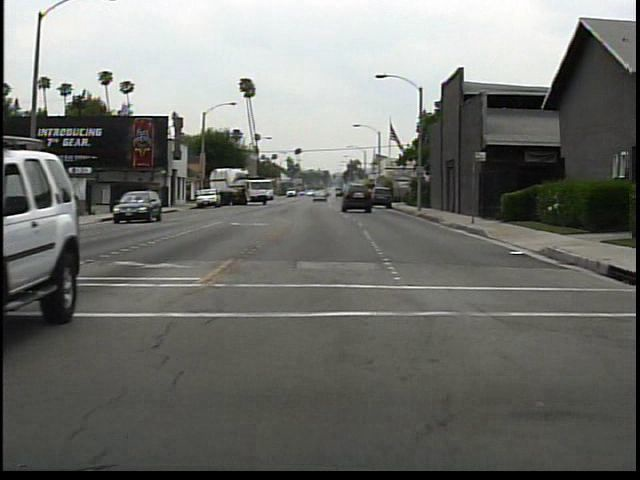person: (57, 181, 79, 224)
